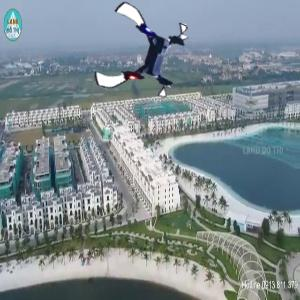drone: (96, 10, 187, 101)
